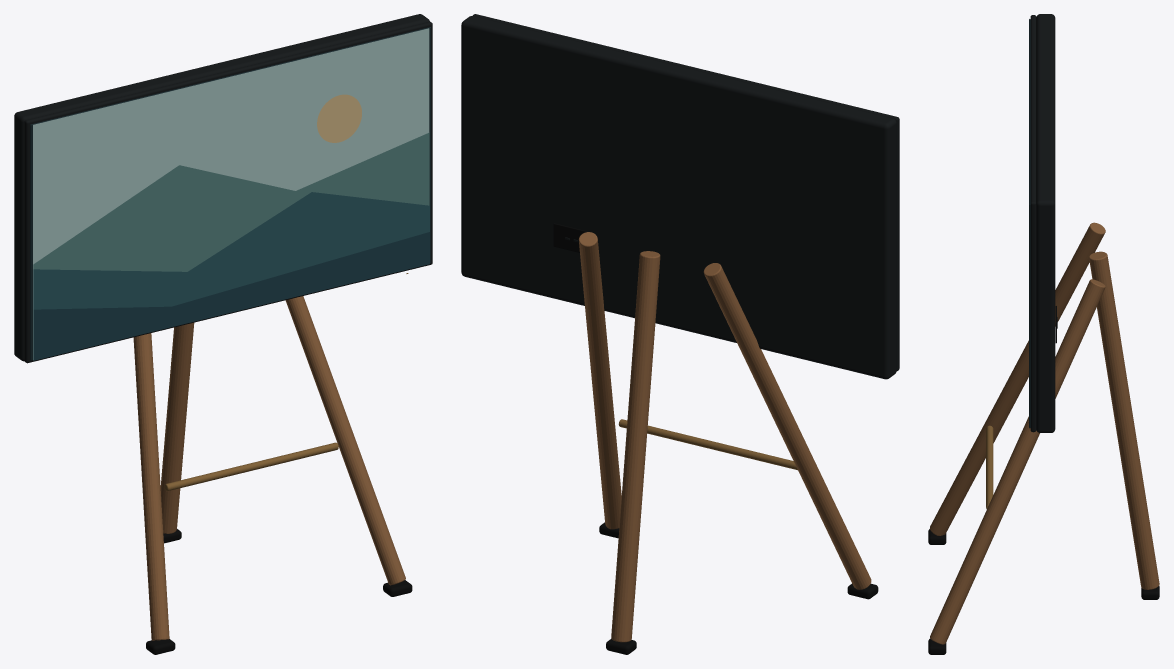
The model's file is tv-easel-55.glb.
3 renders of one model, left to right at view 1: azimuth 30°, elevation 25°; view 2: azimuth 150°, elevation 25°; view 3: azimuth 270°, elevation 25°, orthographic. The views are drawn at different scales.
Visible parts, largest first — view 1: Screen sky, Screen ridge 0, Screen ridge 1, Screen ridge 2, TV rear housing, Tapered easel front leg, Tapered easel front leg.001, Slim display bezel, Easel rear leg, Screen glass, Screen sun, Bronze leg brace; view 2: TV rear housing, Easel rear leg, Tapered easel front leg, Tapered easel front leg.001, Slim display bezel, Bronze leg brace, Rear connection bay; view 3: TV rear housing, Easel rear leg, Tapered easel front leg.001, Tapered easel front leg, Slim display bezel, Screen glass, Bronze leg brace.
Boxes of the visible parts, left/top/right/bottom form: Screen sky: left=33, top=28, right=429, bottom=359; Screen ridge 0: left=33, top=132, right=429, bottom=271; Screen ridge 1: left=33, top=192, right=429, bottom=360; Screen ridge 2: left=33, top=232, right=429, bottom=360; TV rear housing: left=14, top=14, right=429, bottom=361; Tapered easel front leg: left=133, top=333, right=169, bottom=640; Tapered easel front leg.001: left=285, top=296, right=405, bottom=585; Slim display bezel: left=24, top=21, right=432, bottom=363; Easel rear leg: left=160, top=322, right=194, bottom=533; Screen glass: left=30, top=27, right=430, bottom=360; Screen sun: left=317, top=94, right=361, bottom=142; Bronze leg brace: left=164, top=442, right=338, bottom=491; TV rear housing: left=461, top=16, right=896, bottom=379; Easel rear leg: left=611, top=251, right=660, bottom=642; Tapered easel front leg: left=703, top=263, right=871, bottom=589; Tapered easel front leg.001: left=578, top=232, right=621, bottom=529; Slim display bezel: left=472, top=14, right=899, bottom=370; Bronze leg brace: left=618, top=419, right=797, bottom=470; Rear connection bay: left=553, top=223, right=590, bottom=252; TV rear housing: left=1036, top=14, right=1055, bottom=432; Easel rear leg: left=1089, top=251, right=1159, bottom=589; Tapered easel front leg.001: left=930, top=279, right=1105, bottom=644; Tapered easel front leg: left=930, top=222, right=1105, bottom=535; Slim display bezel: left=1030, top=15, right=1036, bottom=432; Screen glass: left=1029, top=19, right=1030, bottom=428; Bronze leg brace: left=986, top=425, right=993, bottom=508.
Size of the model in its own units: 1.24 by 1.49 by 0.6403.
